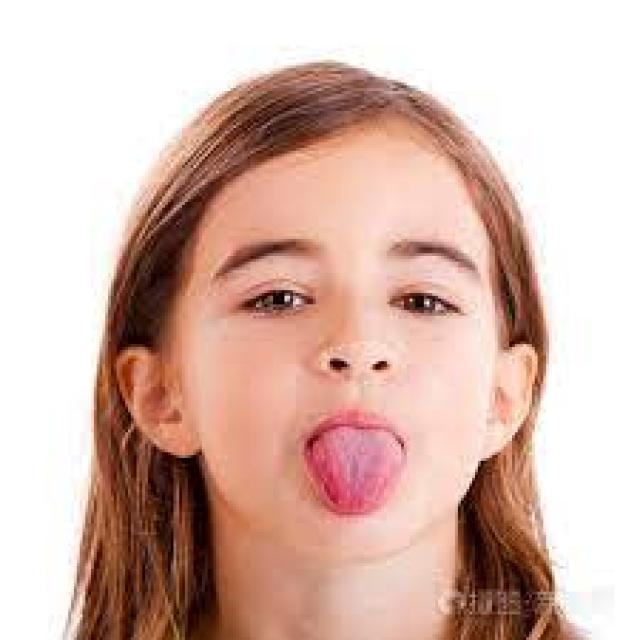tongue: (306, 421, 408, 509)
